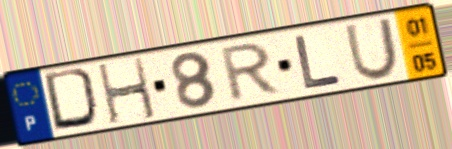8: (168, 50, 219, 112)
D: (40, 65, 105, 133)
H: (94, 55, 159, 127)
L: (291, 32, 345, 92)
R: (219, 39, 284, 105)
U: (343, 16, 402, 83)
